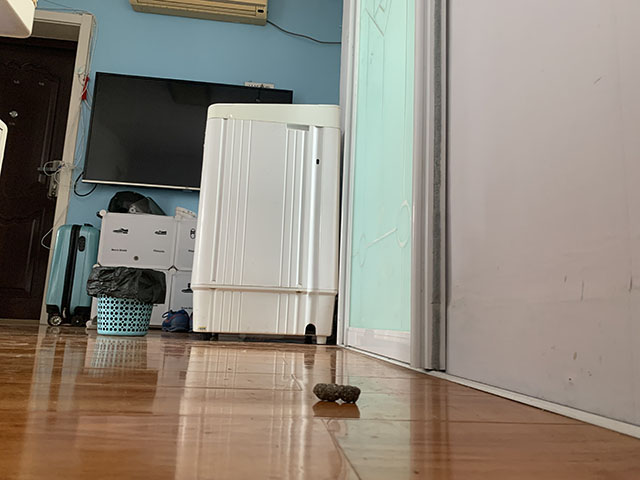feces: (310, 381, 362, 404)
trashcan: (86, 262, 164, 336)
